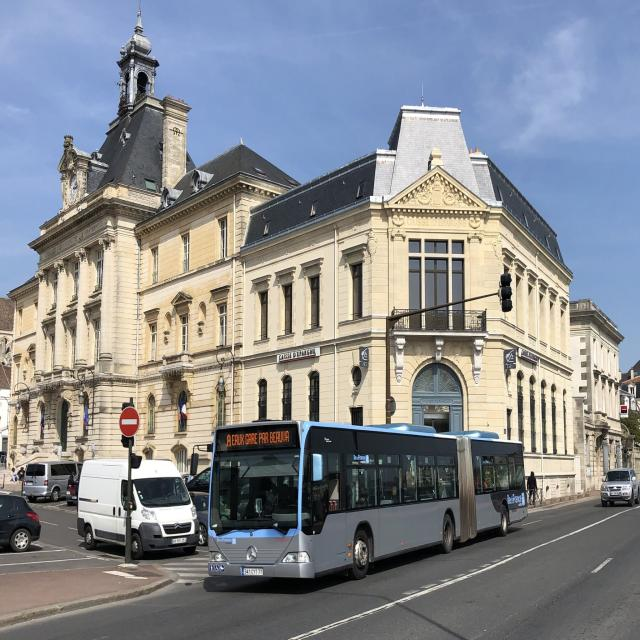Bus: (208, 421, 528, 579)
Car: (76, 459, 199, 560)
